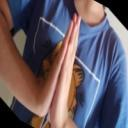hand: (35, 13, 77, 118), (48, 17, 81, 128)
